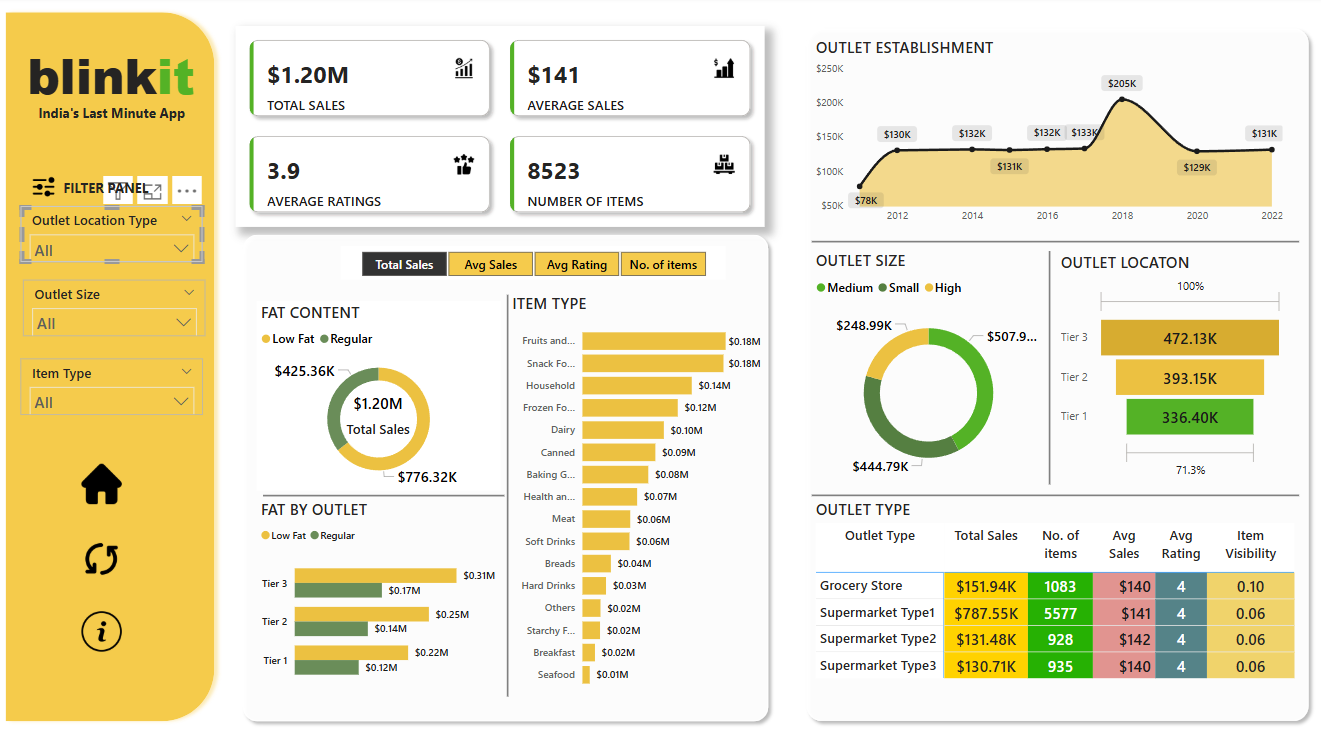

The dashboard page shown, as its layout file describes it:
{"tool":"powerbi","page":{"name":"Dashboard","canvas":[1600,900],"ordinal":0},"visuals":[{"type":"shape","box":[0,10,270,873.3],"z":0},{"type":"textbox","box":[30,48.6,232.9,95.7],"z":1000},{"type":"textbox","box":[44.3,125.7,205.7,37.1],"z":2000},{"type":"cardVisual","fields":{"Data":["BlinkIT Grocery Data.Total Sales","BlinkIT Grocery Data.Avg Sales","BlinkIT Grocery Data.Avg Rating","BlinkIT Grocery Data.Number of items"]},"box":[286.5,0,639.4,297.1],"z":3000},{"type":"shape","box":[286.5,301.6,653,582.1],"z":4000},{"type":"donutChart","title":"FAT CONTENT","fields":{"Y":["BlinkIT Grocery Data.Total Sales"],"Category":["BlinkIT Grocery Data.Item Fat Content"]},"box":[311.7,367.3,294.3,228.6],"z":5000},{"type":"slicer","fields":{"Values":["Metrics.Metrics"]},"box":[413.2,301.6,464.5,40.7],"z":6000},{"type":"card","fields":{"Values":["BlinkIT Grocery Data.Total Sales"]},"box":[406.7,456.7,103.3,95],"z":7000},{"type":"clusteredBarChart","title":"FAT BY OUTLET","fields":{"Y":["BlinkIT Grocery Data.Total Sales"],"Category":["BlinkIT Grocery Data.Outlet Location Type"],"Series":["BlinkIT Grocery Data.Item Fat Content"]},"box":[311.7,606.7,295,238.3],"z":8000},{"type":"shape","box":[320,580,291.4,44.3],"z":9000},{"type":"shape","box":[595,360,38.3,485],"z":10000},{"type":"barChart","title":"ITEM TYPE","fields":{"Y":["BlinkIT Grocery Data.Total Sales"],"Category":["BlinkIT Grocery Data.Item Type"]},"box":[615,356.7,310,488.3],"z":11000},{"type":"shape","box":[966.7,30,623.3,853.3],"z":12000},{"type":"lineChart","title":"OUTLET ESTABLISHMENT","fields":{"Category":["BlinkIT Grocery Data.Outlet Establishment Year"],"Y":["BlinkIT Grocery Data.Total Sales"]},"box":[981.7,48.3,573.3,235],"z":13000},{"type":"shape","box":[981.7,279,588.1,34.7],"z":14000},{"type":"donutChart","title":"OUTLET SIZE","fields":{"Y":["BlinkIT Grocery Data.Total Sales"],"Category":["BlinkIT Grocery Data.Outlet Size"]},"box":[981.7,306.1,282,289.5],"z":15000},{"type":"shape","box":[1248.3,308.3,40,281.7],"z":16000},{"type":"funnel","title":"OUTLET LOCATON","fields":{"Y":["Sum(BlinkIT Grocery Data.Sales)"],"Category":["BlinkIT Grocery Data.Outlet Location Type"]},"box":[1276.7,308.3,278.3,280],"z":17000},{"type":"shape","box":[981.7,585.1,588.1,34.7],"z":18000},{"type":"pivotTable","title":"OUTLET TYPE","fields":{"Rows":["BlinkIT Grocery Data.Outlet Type"],"Values":["BlinkIT Grocery Data.Total Sales","BlinkIT Grocery Data.No. of items","BlinkIT Grocery Data.Avg Sales","BlinkIT Grocery Data.Avg Rating","Avg(BlinkIT Grocery Data.Item Visibility)"]},"box":[981.7,606.7,588.3,238.3],"z":19000},{"type":"slicer","fields":{"Values":["BlinkIT Grocery Data.Outlet Location Type"]},"box":[26.7,253.3,220,68.3],"z":20000},{"type":"slicer","fields":{"Values":["BlinkIT Grocery Data.Outlet Size"]},"box":[30,341.7,220,68.3],"z":21000},{"type":"slicer","fields":{"Values":["BlinkIT Grocery Data.Item Type"]},"box":[26.7,436.7,220,68.3],"z":22000},{"type":"textbox","box":[74.2,215.7,123.7,37.7],"z":23000},{"type":"image","box":[95,559.5,60.3,58.8],"z":24000},{"type":"image","box":[36.5,206.6,37.7,46.7],"z":25000},{"type":"image","box":[95,650,60.3,58.8],"z":26000},{"type":"image","box":[95,737.4,60.3,58.8],"z":28000}]}

Visuals, with their boxes in screenshot pixels (x1, y1, x2, y2), scaled from the page's 1600x900 canvas onto the 1321x737 screenshot:
shape: <region>0, 8, 223, 723</region>
textbox: <region>25, 40, 217, 118</region>
textbox: <region>37, 103, 206, 133</region>
cardVisual - BlinkIT Grocery Data.Total Sales x BlinkIT Grocery Data.Avg Sales: <region>237, 0, 764, 243</region>
shape: <region>237, 247, 776, 724</region>
"FAT CONTENT" donutChart: <region>257, 301, 500, 488</region>
slicer - Metrics.Metrics: <region>341, 247, 725, 280</region>
card - BlinkIT Grocery Data.Total Sales: <region>336, 374, 421, 452</region>
"FAT BY OUTLET" clusteredBarChart: <region>257, 497, 501, 692</region>
shape: <region>264, 475, 505, 511</region>
shape: <region>491, 295, 523, 692</region>
"ITEM TYPE" barChart: <region>508, 292, 764, 692</region>
shape: <region>798, 25, 1313, 723</region>
"OUTLET ESTABLISHMENT" lineChart: <region>811, 40, 1284, 232</region>
shape: <region>811, 228, 1296, 257</region>
"OUTLET SIZE" donutChart: <region>811, 251, 1043, 488</region>
shape: <region>1031, 252, 1064, 483</region>
"OUTLET LOCATON" funnel: <region>1054, 252, 1284, 482</region>
shape: <region>811, 479, 1296, 508</region>
"OUTLET TYPE" pivotTable: <region>811, 497, 1296, 692</region>
slicer - BlinkIT Grocery Data.Outlet Location Type: <region>22, 207, 204, 263</region>
slicer - BlinkIT Grocery Data.Outlet Size: <region>25, 280, 206, 336</region>
slicer - BlinkIT Grocery Data.Item Type: <region>22, 358, 204, 414</region>
textbox: <region>61, 177, 163, 208</region>
image: <region>78, 458, 128, 506</region>
image: <region>30, 169, 61, 207</region>
image: <region>78, 532, 128, 580</region>
image: <region>78, 604, 128, 652</region>
